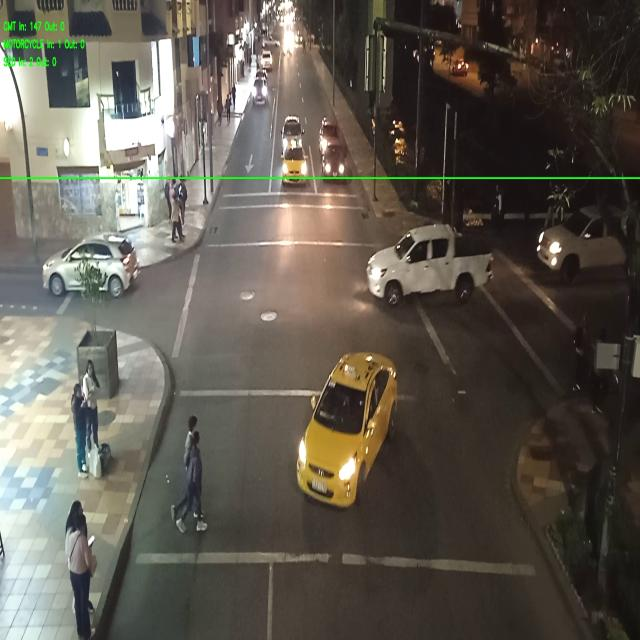CMT: (369, 225, 491, 296), (540, 208, 628, 272)
SED: (299, 356, 394, 502), (284, 146, 305, 187), (324, 148, 345, 185)
SUV: (45, 233, 132, 290), (261, 50, 271, 70)
